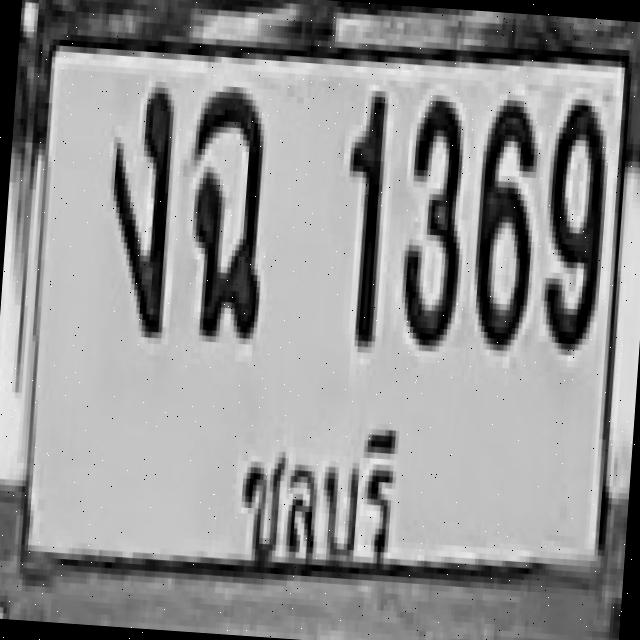1: (334, 86, 389, 344)
16NgorNgu: (99, 81, 177, 335)
18ChorChing: (180, 84, 272, 338)
3: (395, 94, 466, 346)
6: (467, 92, 538, 346)
9: (538, 92, 608, 344)
Chonburi: (220, 394, 420, 602)
